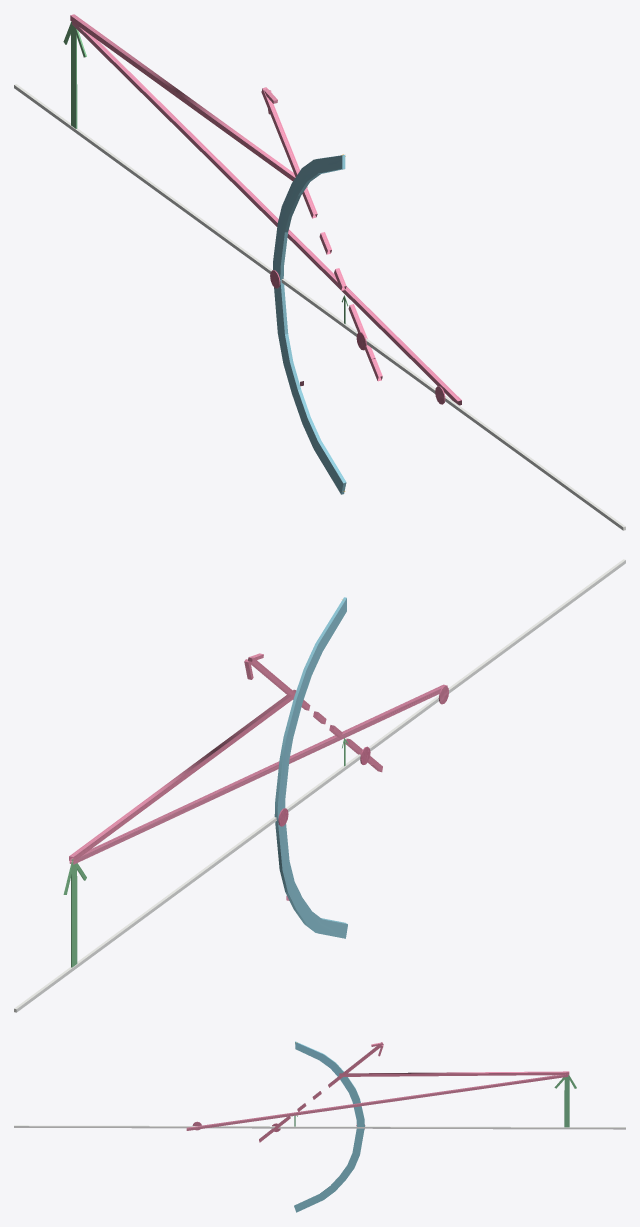
Rendered from convex_case2.fbx.
3 views of the same model, one above another, from view 1: azimuth 30°, elevation 25°; view 2: azimuth 150°, elevation 25°; view 3: azimuth 270°, elevation 25° (orthographic). The views are drawn at different scales.
Parts seen in each view (by area): view 1: convex_case2; view 2: convex_case2; view 3: convex_case2.
Part boxes in pixels (x1,y1,x2,y2): convex_case2: (14,14,625,530); convex_case2: (14,559,625,1012); convex_case2: (14,1041,625,1212).
Bounding box in the file's own units: 2.04 × 38.77 × 125.
1 material, 1 textured.
